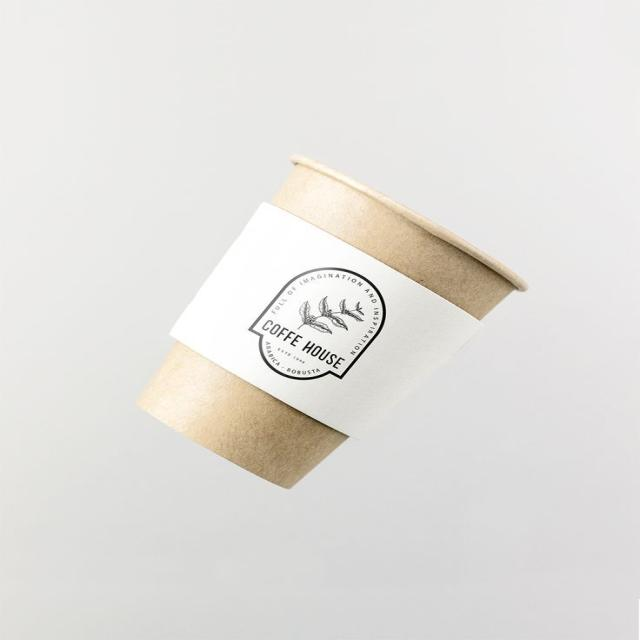paper cup: (139, 154, 528, 489)
